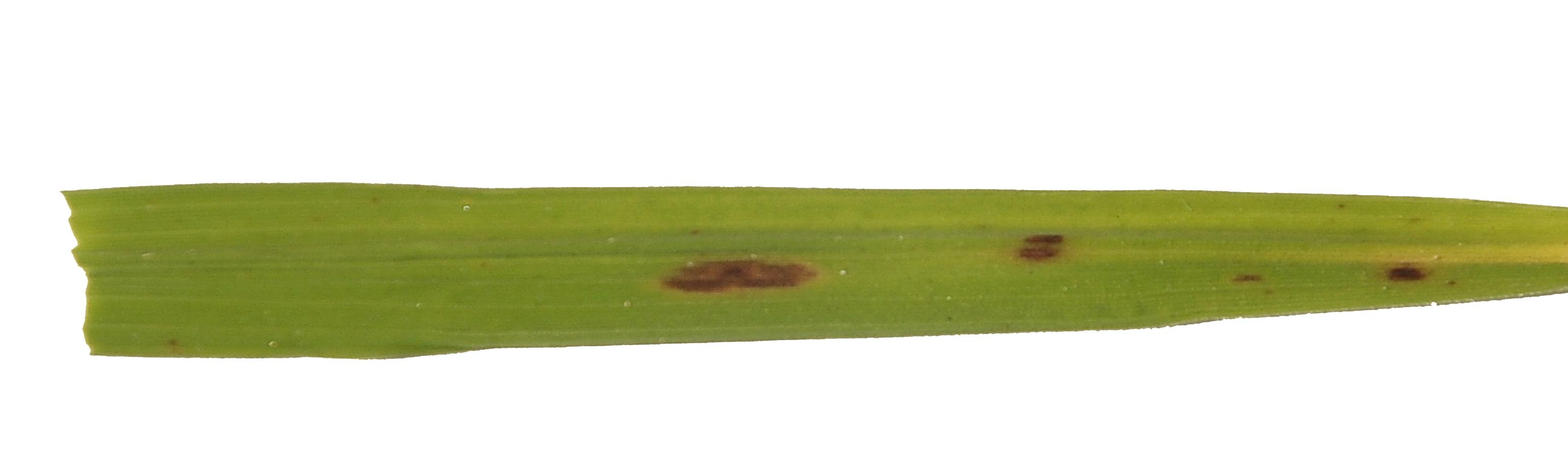Brown spot: (640, 237, 813, 302), (1006, 220, 1076, 268), (1218, 252, 1282, 293), (1381, 249, 1435, 286)
